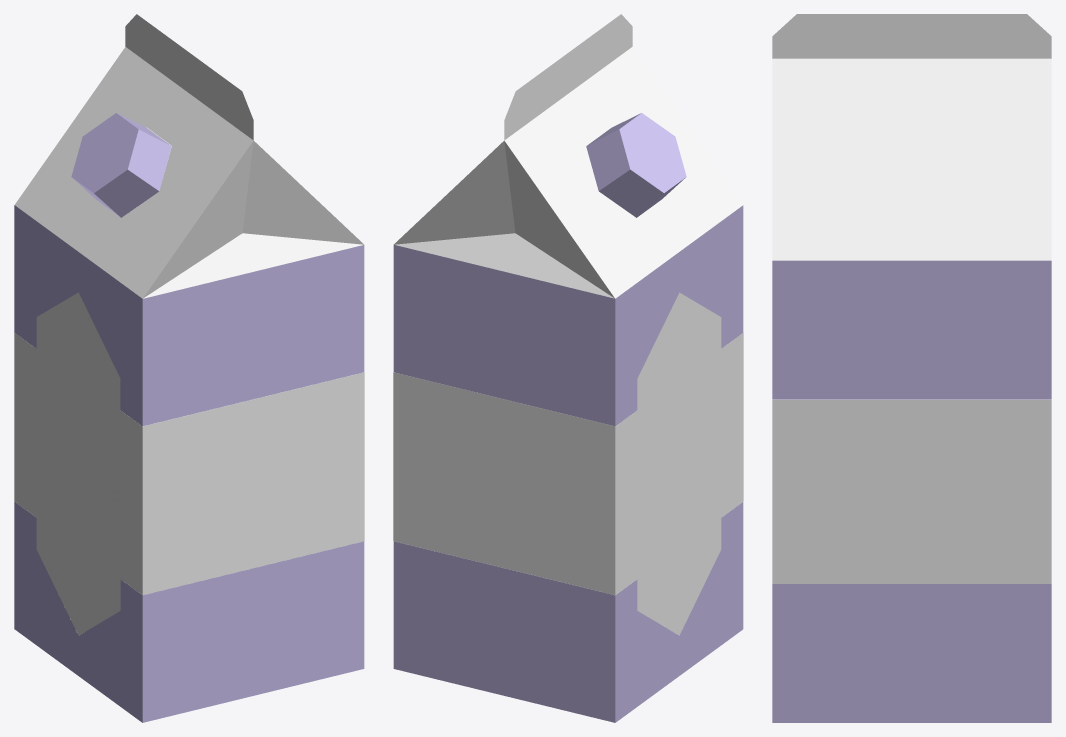
Rendered from carton.glb.
The picture shows the model from 3 angles, left to right: view 1: azimuth 30°, elevation 25°; view 2: azimuth 150°, elevation 25°; view 3: azimuth 270°, elevation 25°; orthographic projection. The views are drawn at different scales.
Parts seen in each view (by area): view 1: carton; view 2: carton; view 3: carton.
Part boxes in pixels (left/top/right/bottom): carton: left=14, top=14, right=364, bottom=722; carton: left=393, top=14, right=743, bottom=722; carton: left=772, top=14, right=1051, bottom=722.
Size of the model in its own units: 0.23 by 0.5906 by 0.23.
